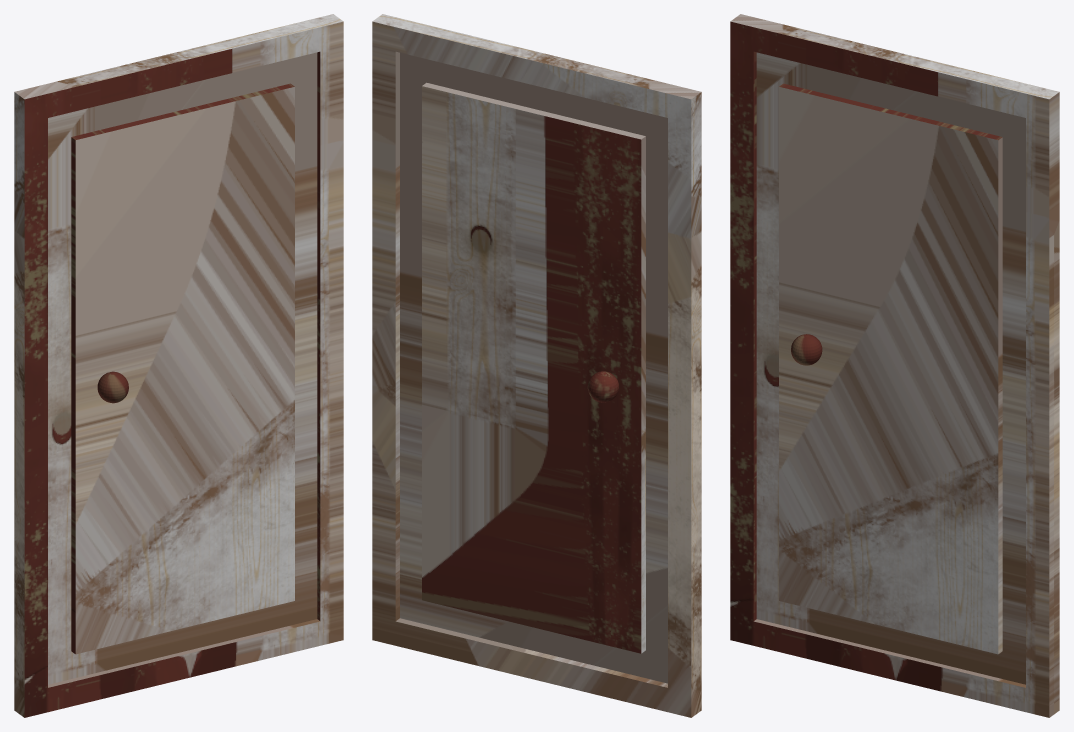
File: porte_001.fbx
The picture shows the model from 3 angles, left to right: view 1: azimuth 30°, elevation 25°; view 2: azimuth 150°, elevation 25°; view 3: azimuth 330°, elevation 25°; orthographic projection.
Visible parts, largest first — view 1: porte.001; view 2: porte.001; view 3: porte.001.
Boxes of the visible parts, x1,y1,x2,y2 form: porte.001: (14,14,343,717); porte.001: (372,14,701,717); porte.001: (730,14,1059,717).
Size of the model in its own units: 106 by 197 by 21.74.
